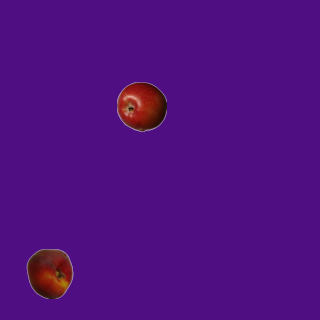Apple Braeburn: (116, 81, 166, 131)
Nectarine Flat: (24, 248, 74, 298)
